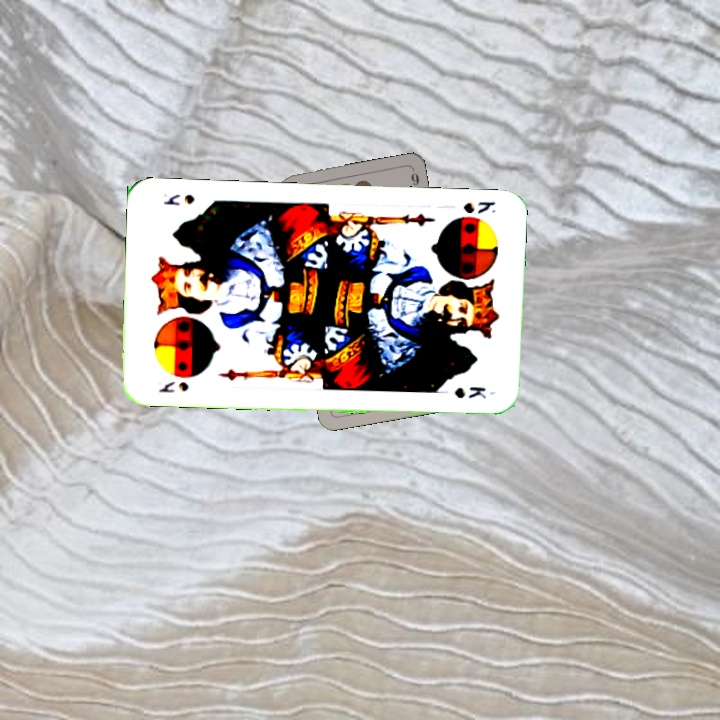SK: (460, 197, 499, 216), (154, 377, 191, 395)
